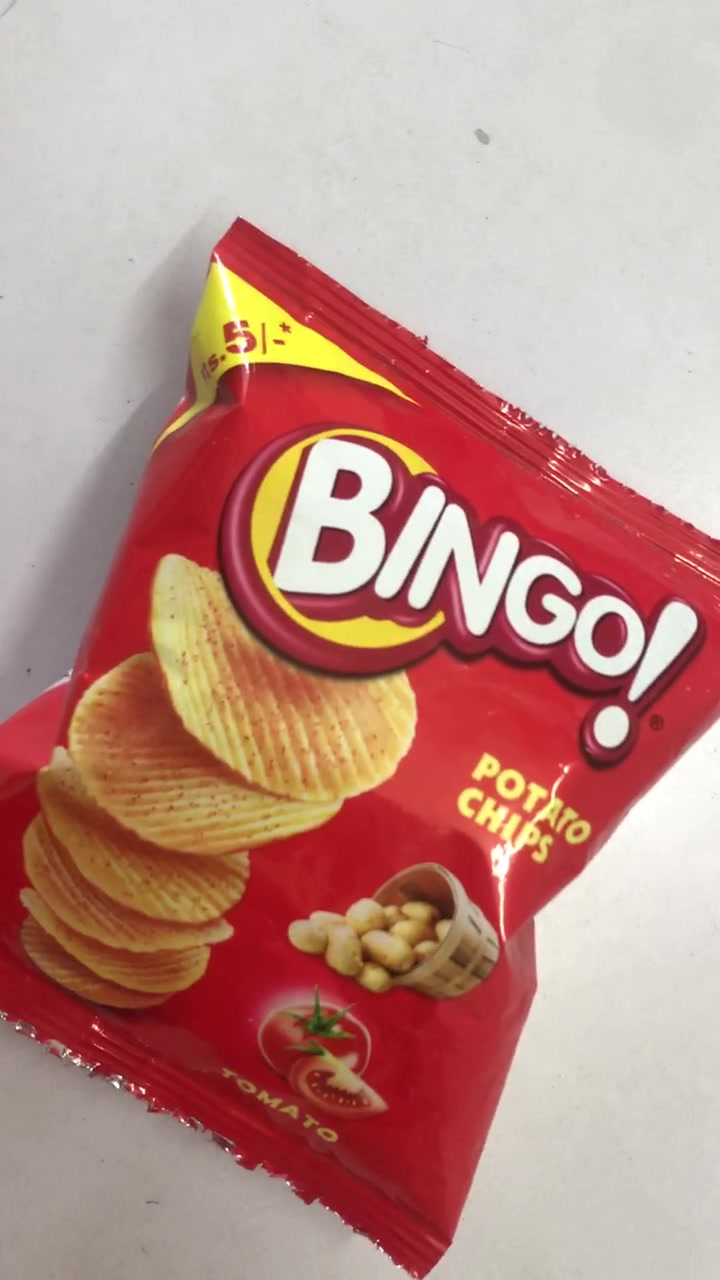Bingo: (1, 249, 716, 1248)
